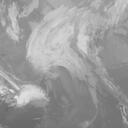cyclone: (23, 32, 86, 89)
